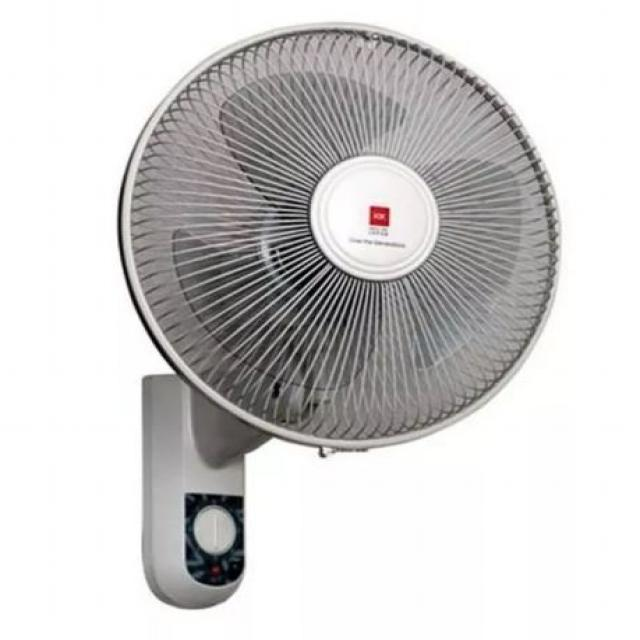fan: (94, 3, 575, 621)
